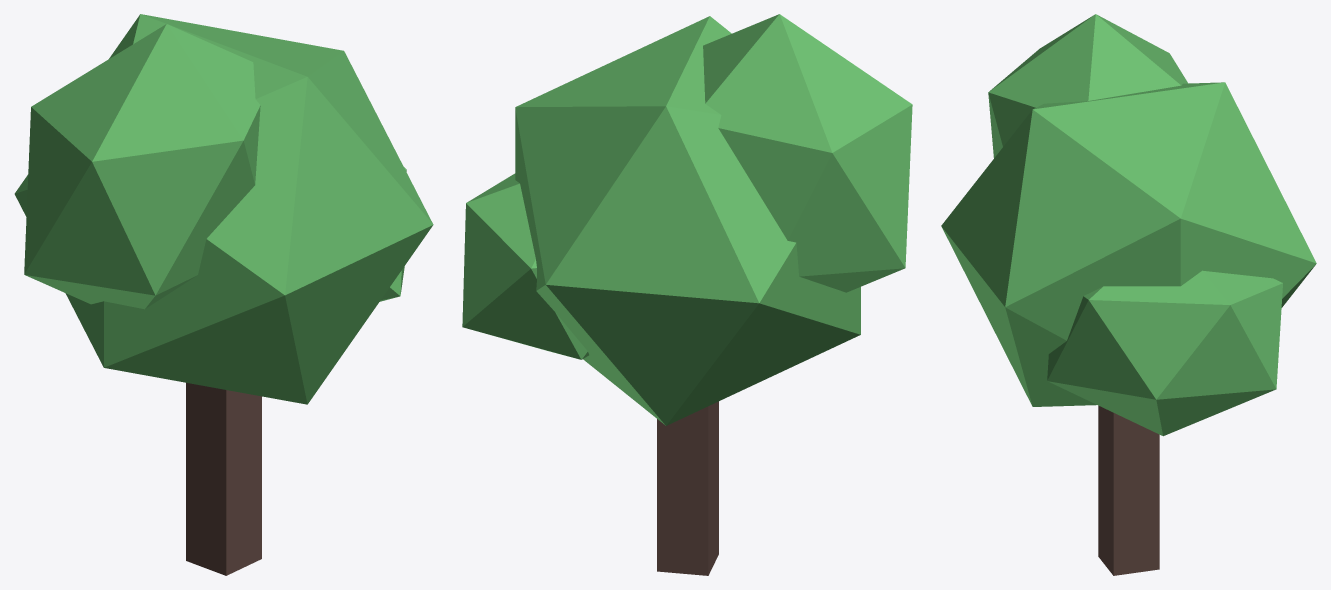
Rendered from Oak_tree.fbx.
3 views of the same model, side by side, from view 1: azimuth 30°, elevation 25°; view 2: azimuth 150°, elevation 25°; view 3: azimuth 270°, elevation 25° (orthographic). The views are drawn at different scales.
Visible parts, largest first — view 1: oak_tree1; view 2: oak_tree1; view 3: oak_tree1.
Part boxes in pixels (x1,y1,x2,y2): oak_tree1: (14,14,433,575); oak_tree1: (462,14,912,575); oak_tree1: (941,14,1316,575).
Size of the model in its own units: 5.62 by 7.37 by 4.87.
